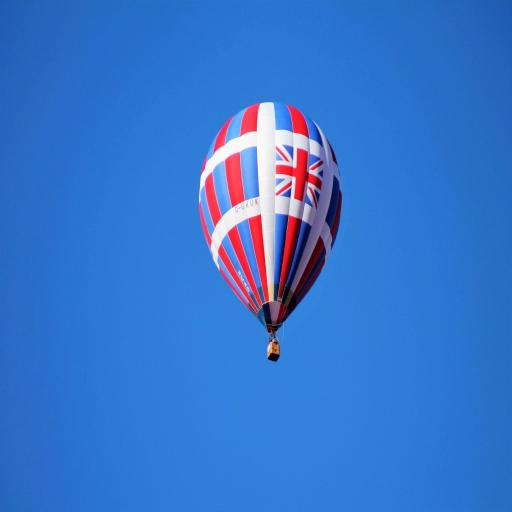hot air ballon: (199, 100, 342, 363)
